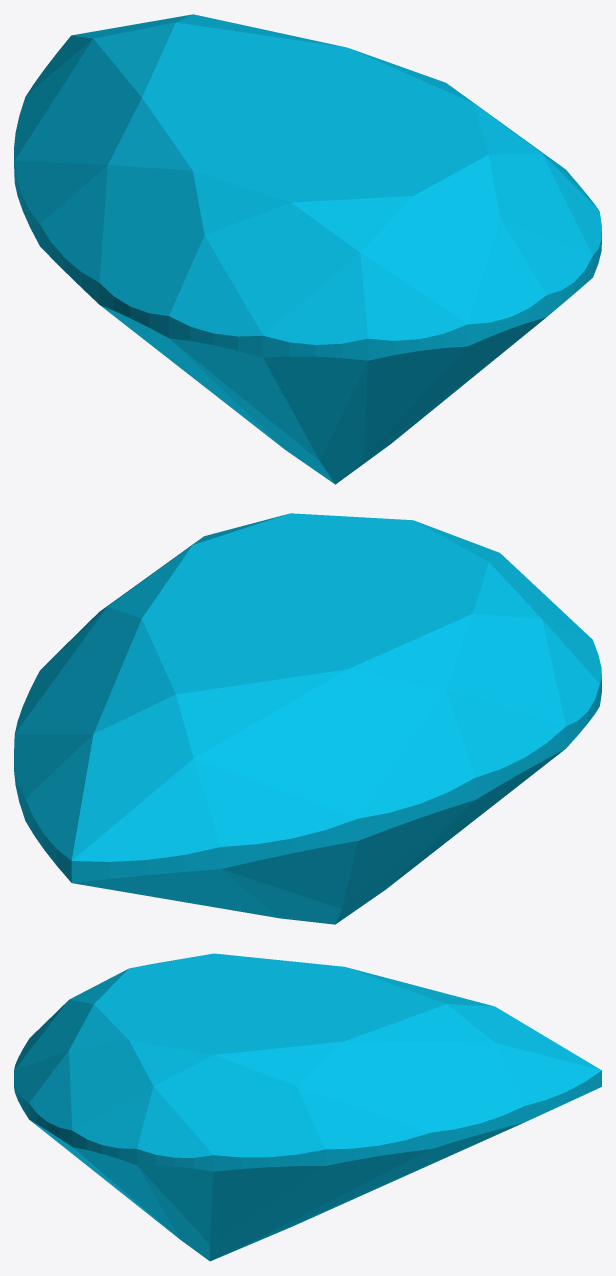
The model's file is Head_Single Halo_Pear_1.0ct_Diamond.glb.
The picture shows the model from 3 angles, top to bottom: view 1: azimuth 30°, elevation 25°; view 2: azimuth 150°, elevation 25°; view 3: azimuth 270°, elevation 25°; orthographic projection. The views are drawn at different scales.
Bounding box in the file's own units: 0.00567 × 0.00402 × 0.00833.
